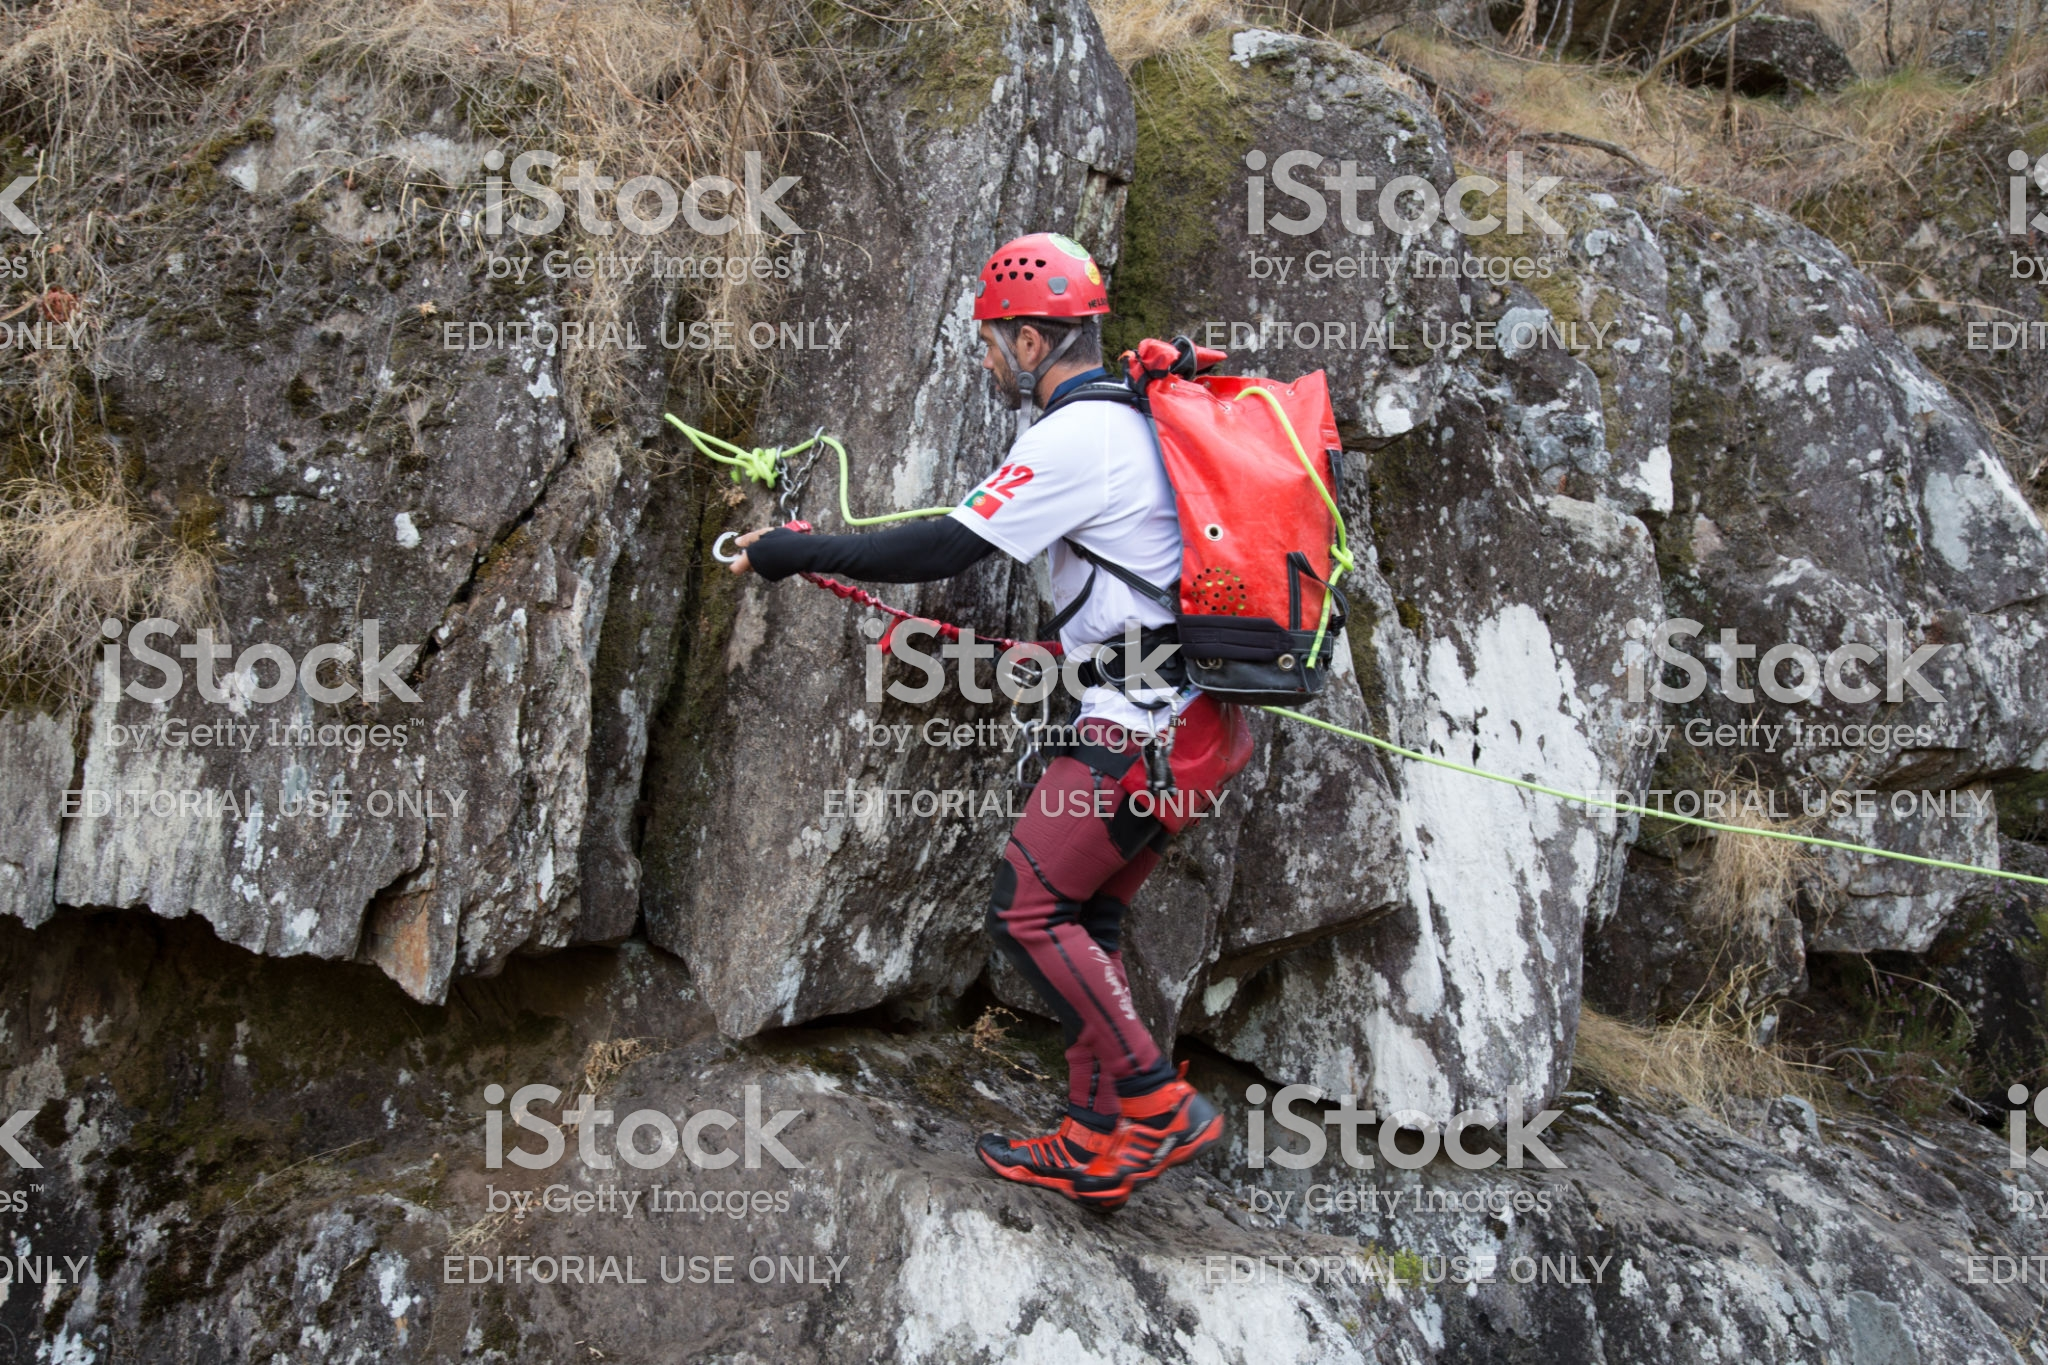helmet: (952, 229, 1121, 352)
